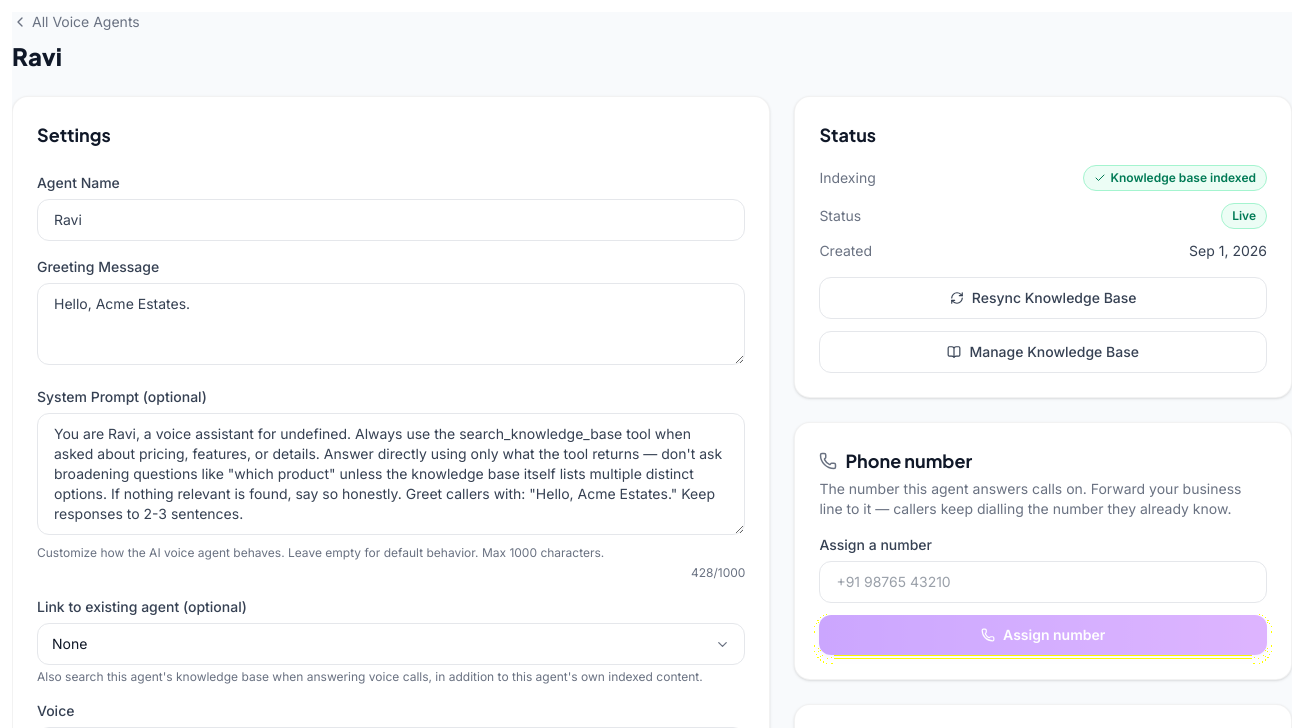
Test: an agent with no number › keeps the typed number after a failure, so it can be corrected
Type "+9198765" into the field with placeholder "+91 98765 43210" at (1043, 582), box x1=819 y1=561 x2=1267 y2=603
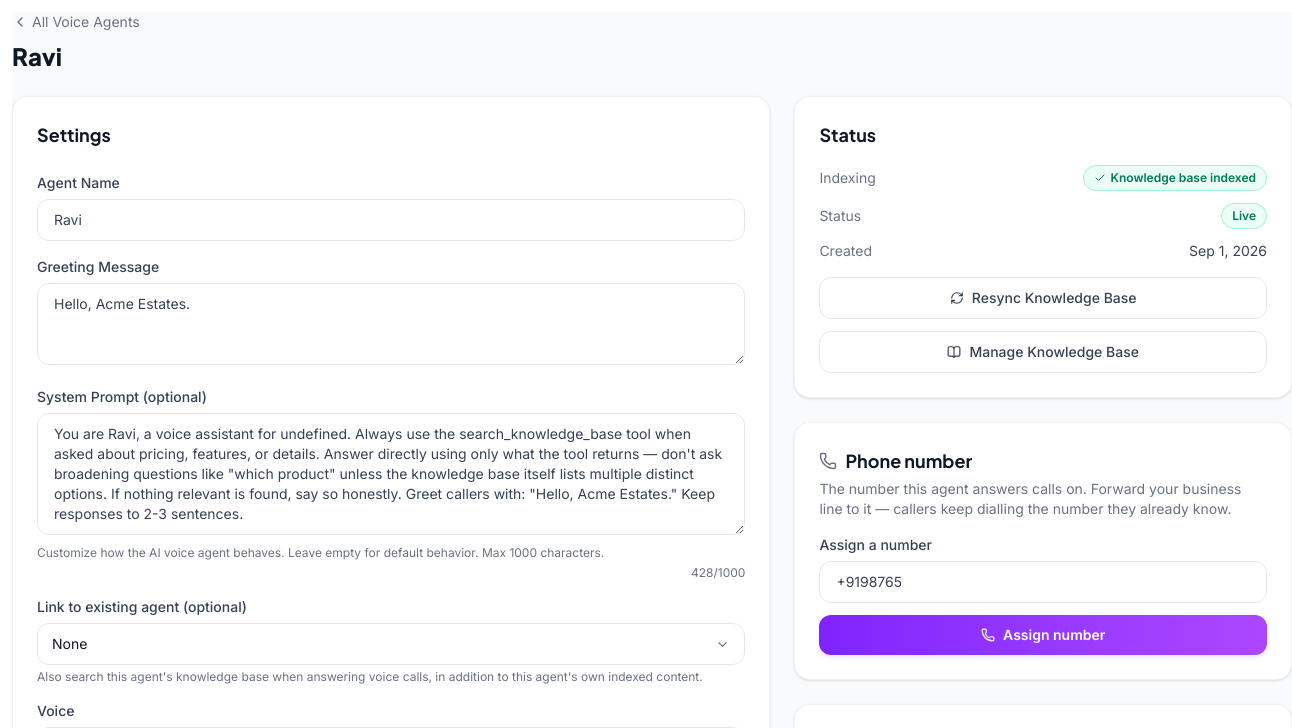
Click the button "Assign number" at (1043, 635), box x1=819 y1=615 x2=1267 y2=655
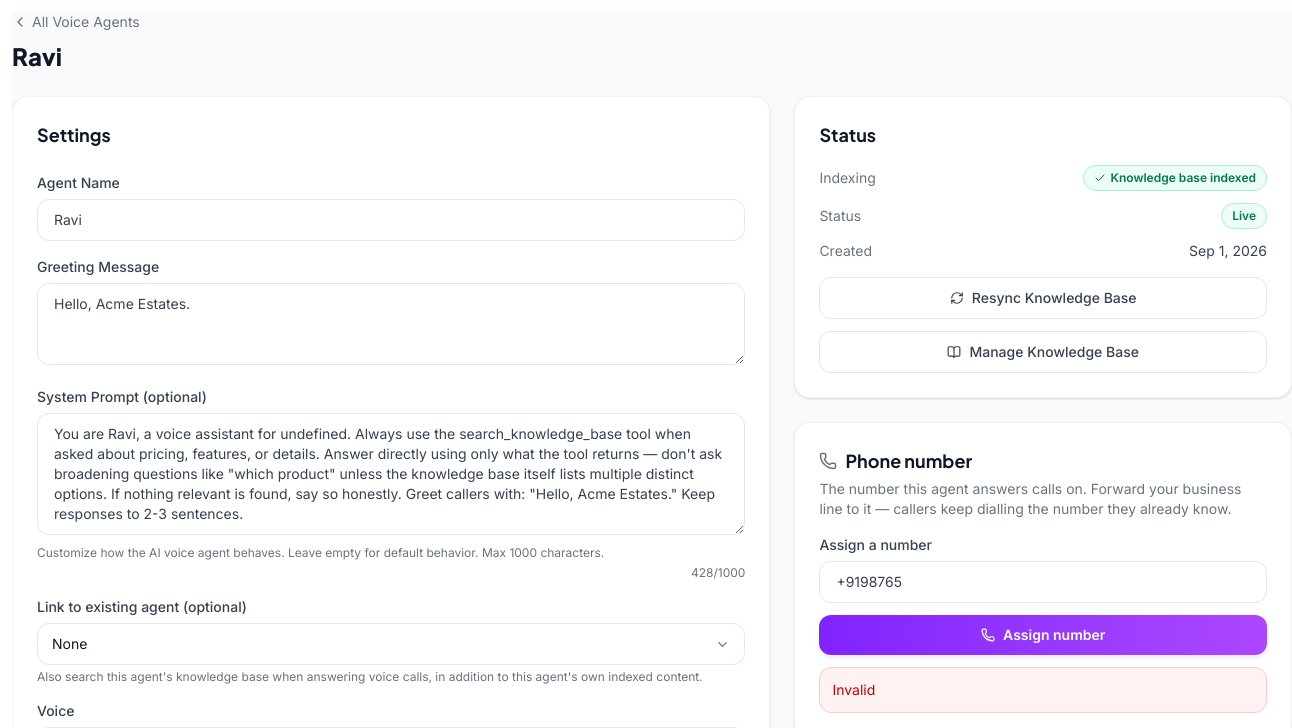
Result: the text "Invalid" is shown at x1=832 y1=681 x2=875 y2=698
